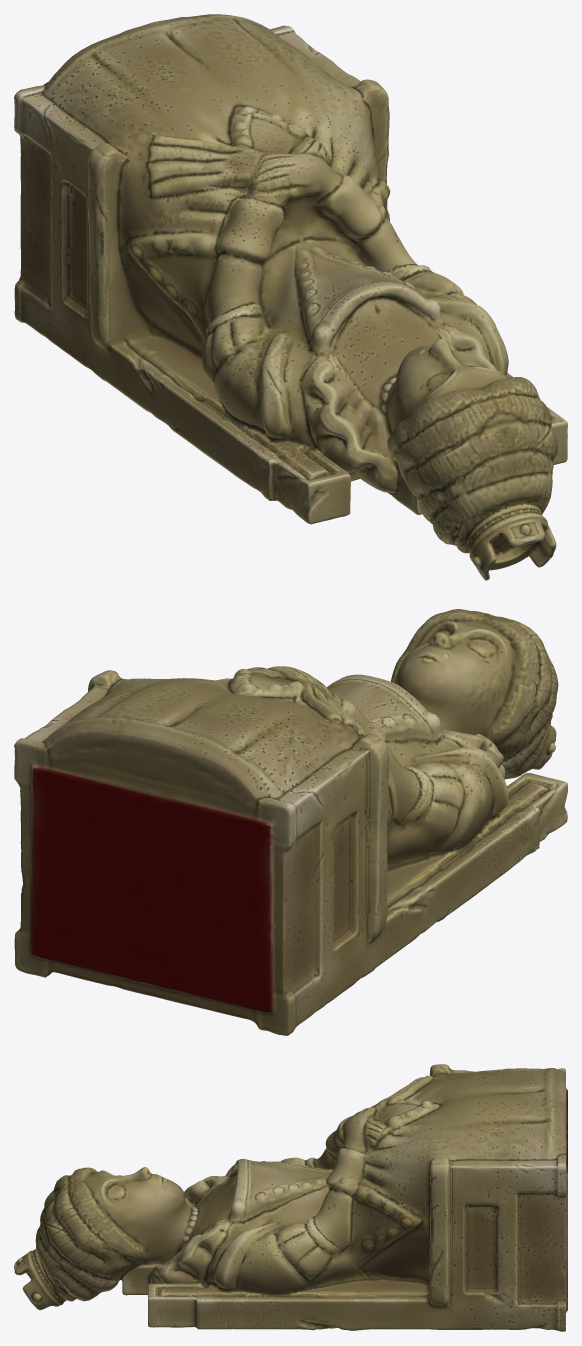
File: ReinaD_scaled.glb
The picture shows the model from 3 angles, top to bottom: view 1: azimuth 30°, elevation 25°; view 2: azimuth 150°, elevation 25°; view 3: azimuth 270°, elevation 25°; orthographic projection. The views are drawn at different scales.
Visible parts, largest first — view 1: Node1; view 2: Node1; view 3: Node1.
Part boxes in pixels (<box>): Node1: <box>14,14,567,580</box>; Node1: <box>14,609,567,1035</box>; Node1: <box>14,1064,567,1331</box>.
Bounding box in the file's own units: 0.8655 × 0.8311 × 1.93.
Materials: 1 (1 with a texture image).
